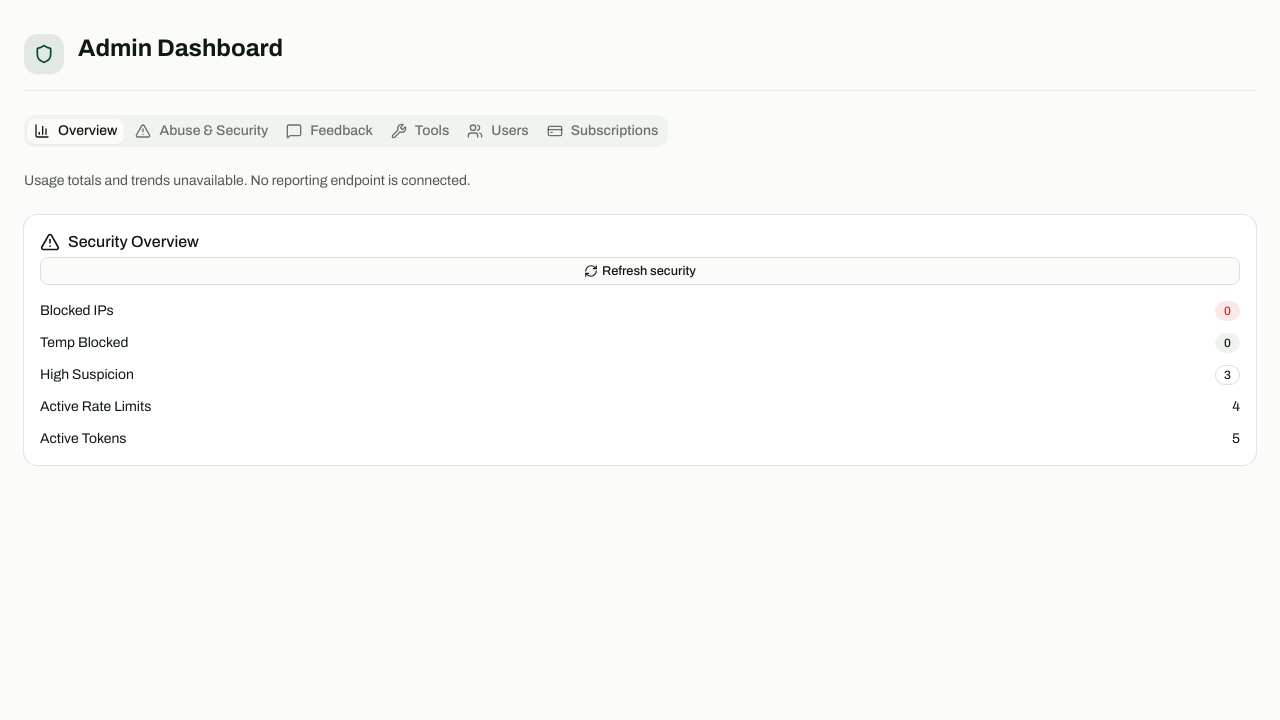
Test: truthful admin dashboard › shows empty states only after valid empty server results
This screenshot has width=1280, height=720.
Expected: the text "Active Tokens" is shown, [40,429,126,449]
Click the tab "Abuse & Security".
click(202, 131)  # box [128,118,275,144]
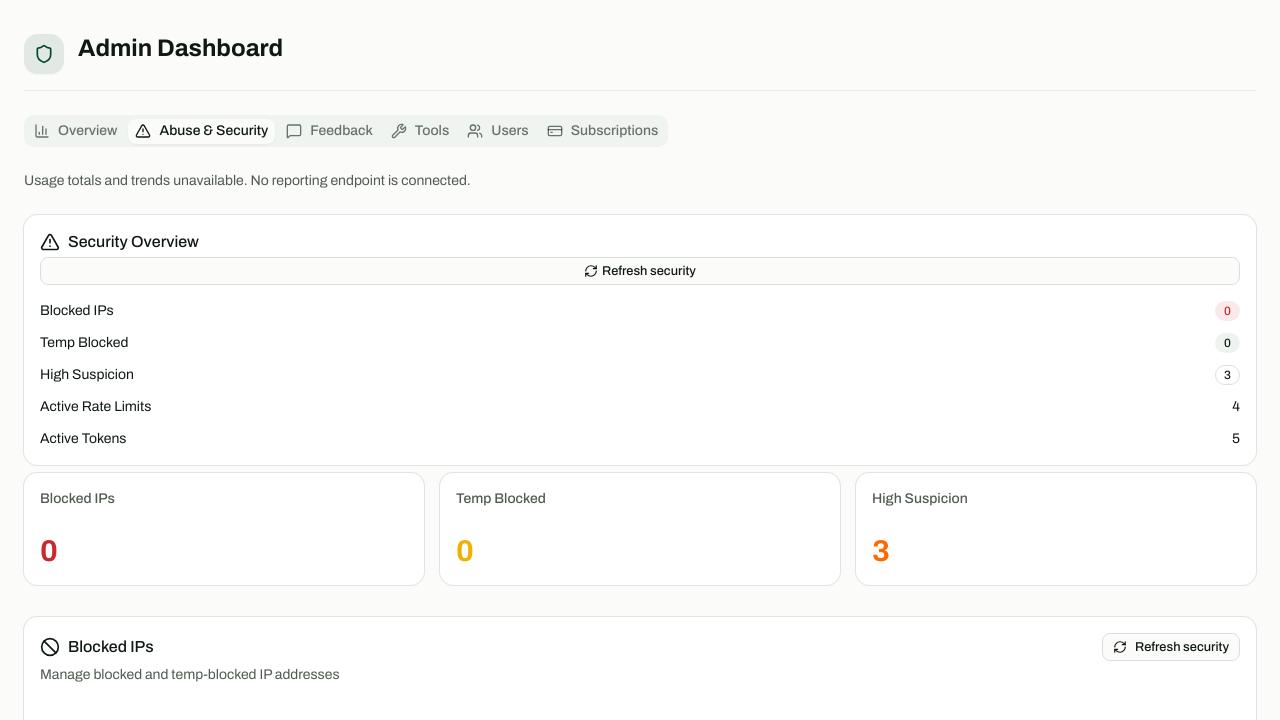
Click the tab "Feedback".
click(330, 131)  # box [279,118,380,144]
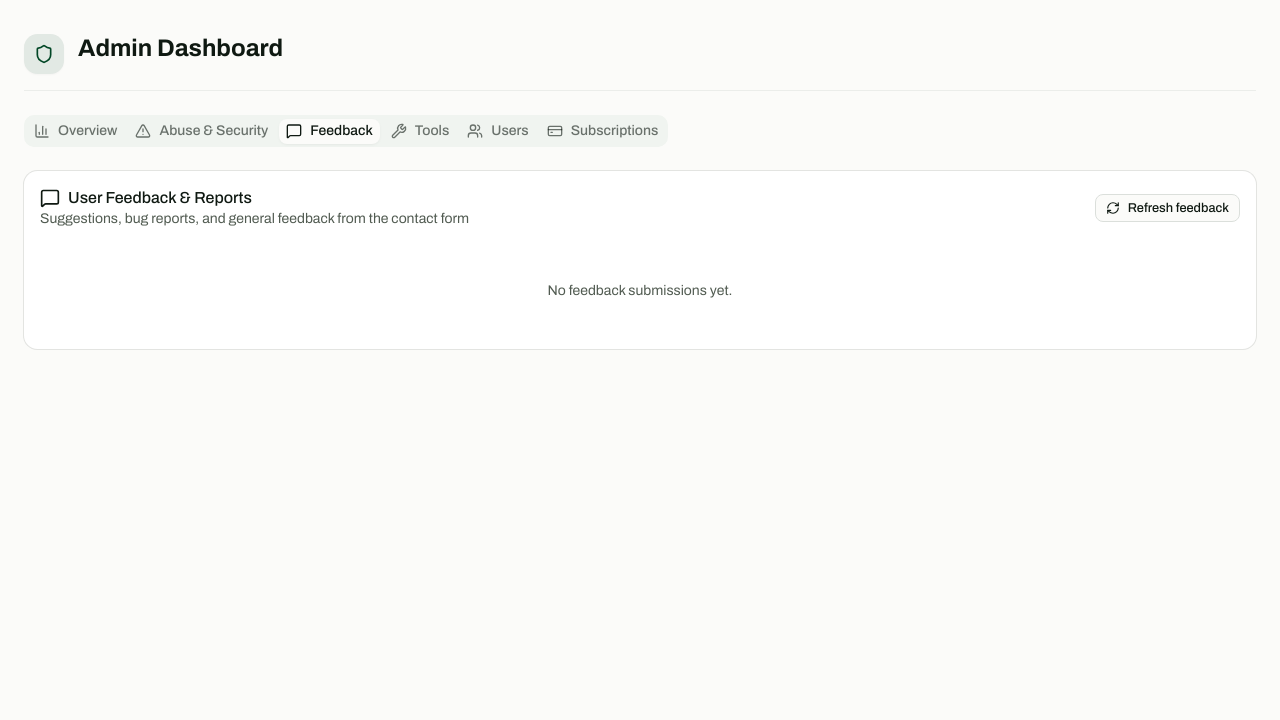
Result: the text "No feedback submissions yet." is shown at [548,283,732,298]
